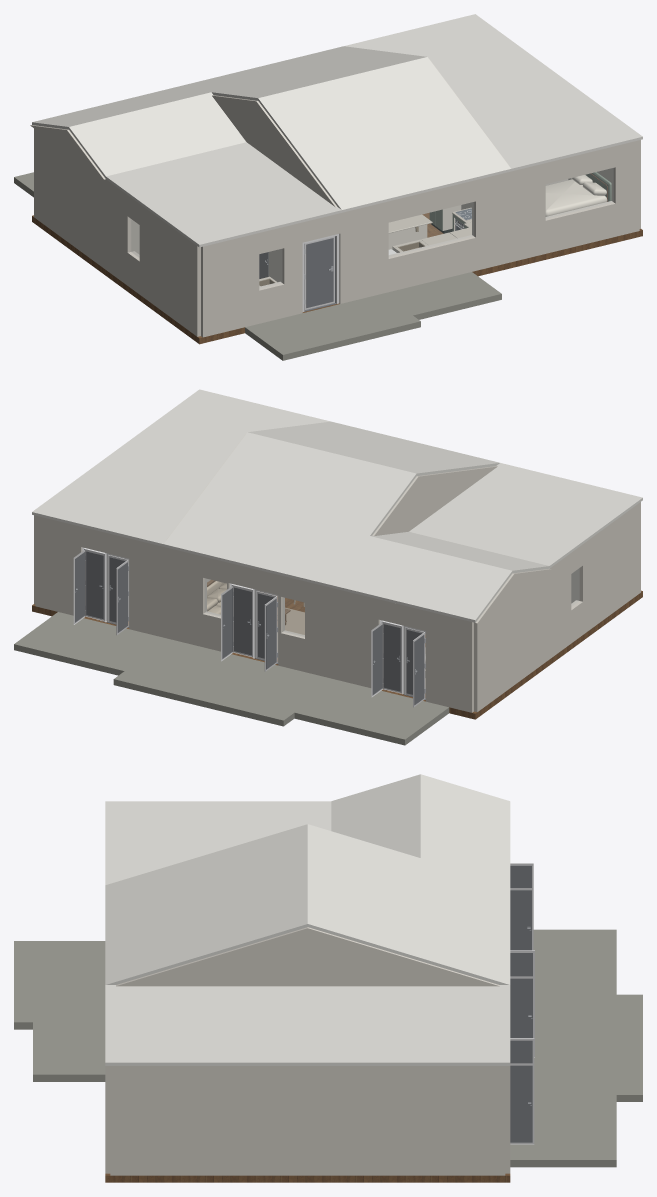
3 renders of one model, top to bottom at view 1: azimuth 30°, elevation 25°; view 2: azimuth 150°, elevation 25°; view 3: azimuth 270°, elevation 25°, orthographic. The views are drawn at different scales.
Visible parts, largest first — view 1: living-kitchen/vault-front, east-wing-flat-ceiling, services-flat-ceiling, ext-left/pier-0, primary/vault-front, ground/slab/1, ext-front/pier-3, ext-left/end, living-kitchen/vault-rear, ext-front/pier-0, ext-front/pier-2, living-kitchen/gable-left (+22 smaller); view 2: living-kitchen/vault-rear, ground/slab/3, east-wing-flat-ceiling, services-flat-ceiling, primary/vault-rear, ext-left/pier-0, ext-rear/pier-4, ext-rear/pier-1, living-kitchen/vault-front, ext-left/end, ext-rear/pier-0, ext-rear/end (+27 smaller); view 3: ext-right/end, east-wing-flat-ceiling, living-kitchen/vault-rear, living-kitchen/vault-front, ground/slab/3, living-kitchen/gable-right, services-flat-ceiling, ground/slab/1, primary/vault-rear, primary/vault-front, ground/slab/0, ground/slab/4 (+9 smaller).
Part boxes in pixels (x1,y1,x2,y2): living-kitchen/vault-front: (258,57,511,212); east-wing-flat-ceiling: (344,14,642,171); services-flat-ceiling: (106,142,341,247); ext-left/pier-0: (34,128,134,285); primary/vault-front: (69,92,246,178); ground/slab/1: (245,272,501,354); ext-front/pier-3: (472,163,545,270); ext-left/end: (139,204,200,336); living-kitchen/vault-rear: (174,46,426,100); ext-front/pier-0: (201,233,259,337); ext-front/pier-2: (339,201,388,303); living-kitchen/gable-left: (212,95,337,207); living-kitchen/vault-rear: (163,432,416,587); ground/slab/3: (14,612,449,745); east-wing-flat-ceiling: (32,389,330,546); services-flat-ceiling: (409,463,642,567); primary/vault-rear: (333,536,512,622); ext-left/pier-0: (474,553,571,712); ext-rear/pier-4: (129,538,206,646); ext-rear/pier-1: (305,581,379,687); living-kitchen/vault-front: (248,421,499,475); ext-left/end: (576,502,640,634); ext-rear/pier-0: (426,611,473,712); ext-rear/end: (35,515,82,615); ext-right/end: (110,1066,505,1175); east-wing-flat-ceiling: (105,985,510,1065); living-kitchen/vault-rear: (307,824,510,984); living-kitchen/vault-front: (105,824,307,984); ground/slab/3: (510,929,616,1167); living-kitchen/gable-right: (116,927,499,986); services-flat-ceiling: (105,801,331,884); ground/slab/1: (33,941,105,1081); primary/vault-rear: (420,774,510,884); primary/vault-front: (331,774,420,857); ground/slab/0: (105,1173,510,1182); ground/slab/4: (616,994,642,1101).
Bounding box in the file's own units: 14.08 × 4.53 × 14.26.
190 materials, 2 textured.
